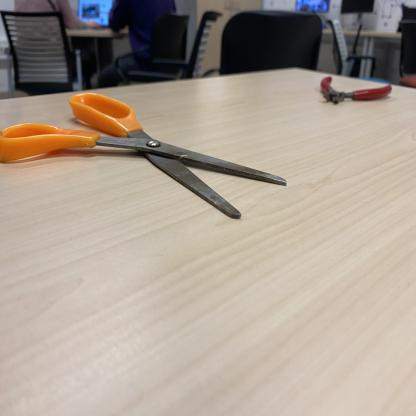scissors: (0, 93, 288, 220)
